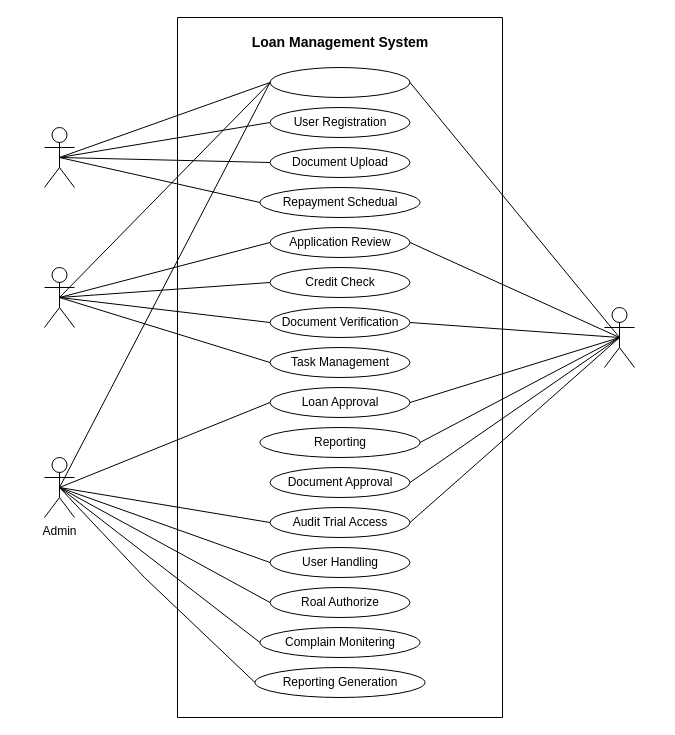
The diagram is 675 pixels wide and 735 high, and some of its shapes have lost their labels. Here are the shapes that lost their labels. From the top down, the centre of each, then its label:
At (339,82): "Login / Logout".
At (59,157): "Loan Applicants".
At (59,297): "Loan Officer".
At (619,337): "Loan Manager".
